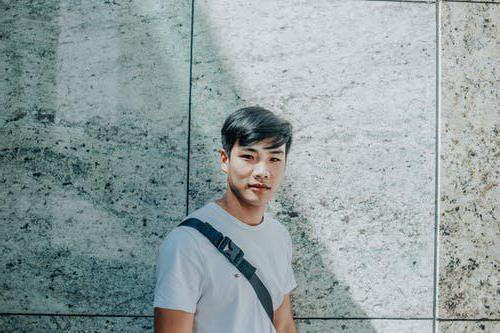Sober: (232, 136, 285, 198)
